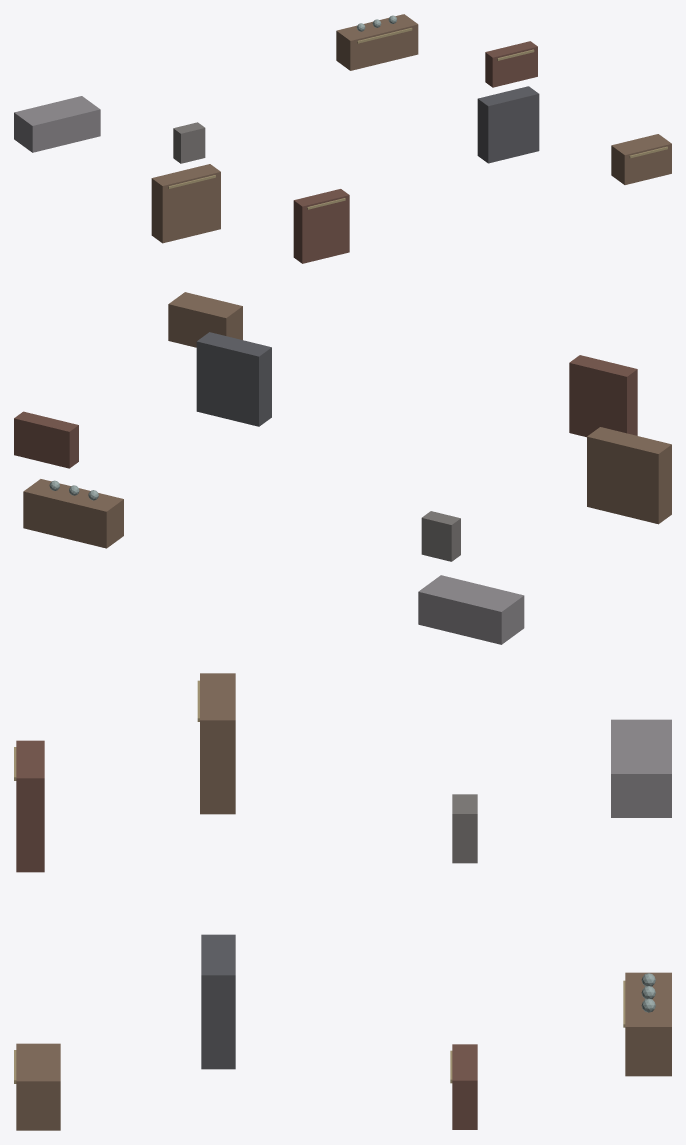
The model's file is furnishings_floor_00.glb.
The picture shows the model from 3 angles, top to bottom: view 1: azimuth 30°, elevation 25°; view 2: azimuth 150°, elevation 25°; view 3: azimuth 270°, elevation 25°; orthographic projection. The views are drawn at different scales.
Visible parts, largest first — view 1: fe-f0-room3_barrel_rack, fe-f0-room4_reinforced_cabinet, fe-f0-room3_wine_cabinet, fe-f0-room1_stone_sarcophagus, fe-f0-room2_experiment_bench, fe-f0-room4_ledger_table, fe-f0-room2_apparatus_shelf, fe-f0-room1_memorial_stone; view 2: fe-f0-room3_barrel_rack, fe-f0-room4_reinforced_cabinet, fe-f0-room1_stone_sarcophagus, fe-f0-room2_experiment_bench, fe-f0-room3_wine_cabinet, fe-f0-room4_ledger_table, fe-f0-room2_apparatus_shelf, fe-f0-room1_memorial_stone; view 3: fe-f0-room1_stone_sarcophagus, fe-f0-room3_barrel_rack, fe-f0-room4_reinforced_cabinet, fe-f0-room2_experiment_bench, fe-f0-room4_ledger_table, fe-f0-room3_wine_cabinet, fe-f0-room2_apparatus_shelf, fe-f0-room1_memorial_stone.
Boxes of the visible parts, box(x1,y1,x2,y2) form: fe-f0-room3_barrel_rack: box(151, 164, 220, 243); fe-f0-room4_reinforced_cabinet: box(477, 86, 539, 163); fe-f0-room3_wine_cabinet: box(293, 189, 349, 263); fe-f0-room1_stone_sarcophagus: box(14, 96, 100, 152); fe-f0-room2_experiment_bench: box(336, 14, 418, 70); fe-f0-room4_ledger_table: box(611, 134, 671, 184); fe-f0-room2_apparatus_shelf: box(485, 41, 537, 87); fe-f0-room1_memorial_stone: box(173, 122, 205, 163); fe-f0-room3_barrel_rack: box(587, 427, 671, 524); fe-f0-room4_reinforced_cabinet: box(196, 332, 271, 426); fe-f0-room1_stone_sarcophagus: box(418, 575, 524, 644); fe-f0-room2_experiment_bench: box(23, 479, 123, 548); fe-f0-room3_wine_cabinet: box(569, 355, 637, 437); fe-f0-room4_ledger_table: box(168, 292, 242, 347); fe-f0-room2_apparatus_shelf: box(14, 411, 78, 468); fe-f0-room1_memorial_stone: box(421, 511, 460, 561); fe-f0-room1_stone_sarcophagus: box(611, 719, 671, 817); fe-f0-room3_barrel_rack: box(200, 673, 235, 814); fe-f0-room4_reinforced_cabinet: box(201, 934, 235, 1069); fe-f0-room2_experiment_bench: box(625, 972, 671, 1076); fe-f0-room4_ledger_table: box(16, 1043, 60, 1130); fe-f0-room3_wine_cabinet: box(16, 740, 44, 872); fe-f0-room2_apparatus_shelf: box(452, 1044, 477, 1129); fe-f0-room1_memorial_stone: box(452, 794, 477, 863).
Bounding box in the file's own units: 12.13 × 1.45 × 9.19.
